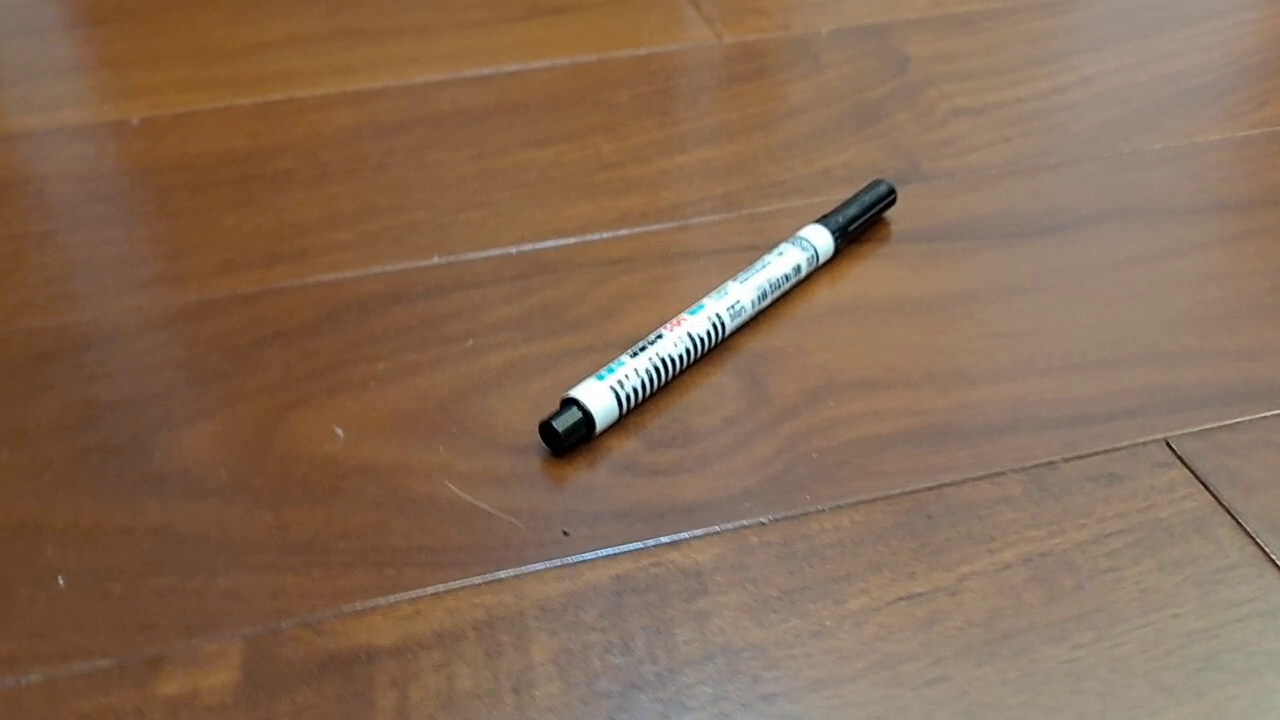pen: (538, 178, 898, 459)
